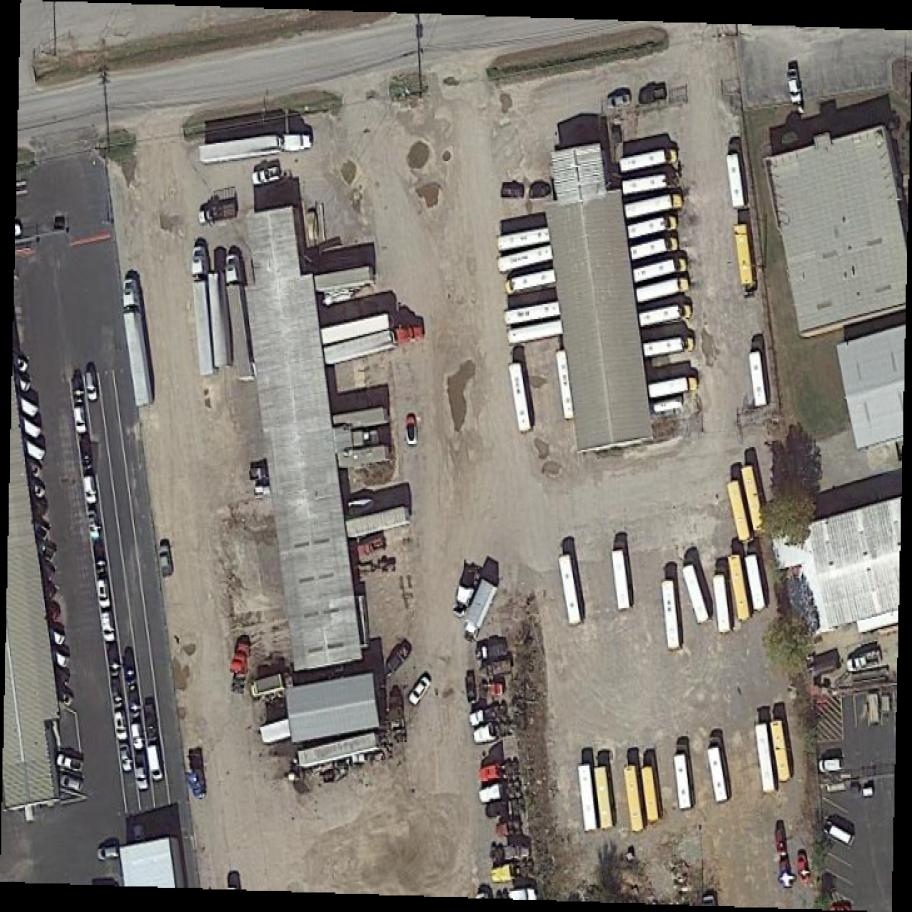large-vehicle: (113, 266, 154, 408), (199, 129, 317, 169), (222, 253, 256, 384), (323, 324, 426, 366), (189, 248, 217, 378), (461, 581, 496, 646), (739, 466, 769, 533), (508, 359, 534, 435), (623, 190, 684, 222), (682, 564, 712, 626), (636, 273, 692, 306), (619, 146, 680, 176), (558, 552, 583, 625), (632, 254, 688, 286), (502, 299, 563, 328), (497, 244, 555, 274), (625, 212, 679, 244), (637, 299, 692, 330), (754, 725, 778, 795), (508, 317, 565, 346), (555, 349, 578, 420), (727, 557, 752, 622), (726, 480, 752, 542), (593, 767, 618, 831), (621, 169, 678, 197), (497, 226, 553, 254), (659, 582, 682, 650), (769, 722, 794, 784), (629, 233, 679, 263), (624, 766, 646, 834), (642, 333, 696, 360), (508, 268, 559, 296), (609, 551, 633, 610), (648, 372, 698, 400), (743, 555, 768, 611), (707, 748, 731, 804), (733, 226, 755, 286), (579, 766, 599, 832), (711, 575, 733, 633), (749, 352, 770, 408), (673, 757, 694, 810), (7, 412, 44, 442), (11, 435, 48, 464), (726, 156, 746, 209), (642, 768, 661, 822)
small-vehicle: (819, 819, 860, 850), (196, 200, 242, 227), (405, 674, 435, 707), (29, 557, 60, 584), (28, 573, 59, 600), (636, 81, 670, 105), (844, 653, 884, 673), (146, 741, 165, 783), (20, 495, 50, 521), (99, 607, 120, 644), (57, 771, 88, 796), (39, 625, 70, 650), (24, 518, 54, 543), (55, 752, 87, 775), (43, 646, 72, 670), (34, 599, 63, 623), (250, 166, 283, 187), (604, 88, 634, 111), (81, 470, 100, 506), (49, 683, 77, 707), (45, 665, 73, 689), (785, 68, 803, 105), (126, 680, 143, 719), (17, 458, 44, 482), (134, 754, 151, 792), (20, 477, 48, 500), (91, 537, 109, 572), (121, 646, 138, 682), (159, 544, 177, 578), (794, 850, 814, 880), (117, 739, 134, 774), (96, 573, 113, 608), (775, 851, 794, 882), (144, 703, 159, 742), (30, 542, 57, 563), (79, 438, 95, 473), (404, 415, 421, 447), (110, 674, 125, 710), (131, 825, 148, 856), (86, 509, 103, 540), (819, 755, 846, 774), (113, 710, 129, 742), (84, 372, 100, 403), (106, 643, 122, 674), (465, 668, 479, 703), (74, 403, 89, 435), (131, 718, 145, 752), (96, 844, 121, 862), (71, 376, 85, 405), (527, 184, 552, 200), (774, 826, 788, 852), (502, 185, 524, 200)
